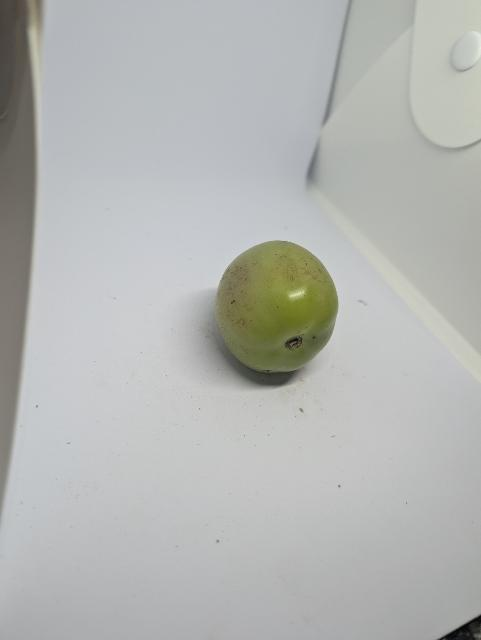green: (214, 238, 342, 376)
